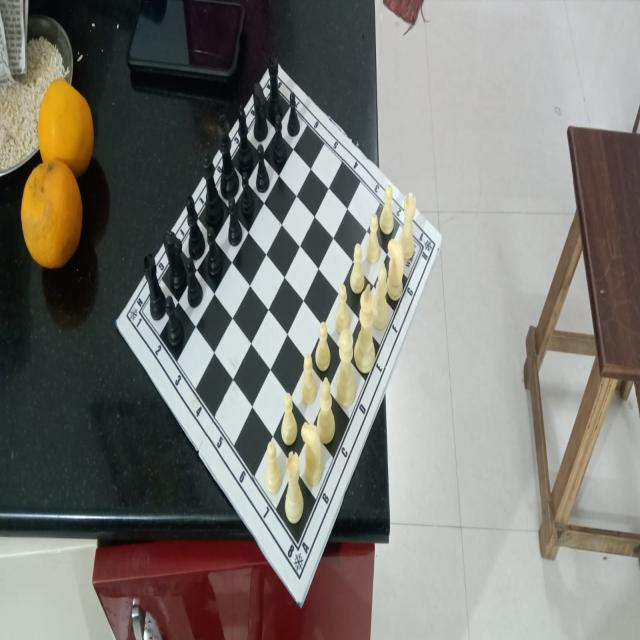corners: (436, 230, 446, 247), (296, 597, 306, 611), (113, 314, 121, 331)
